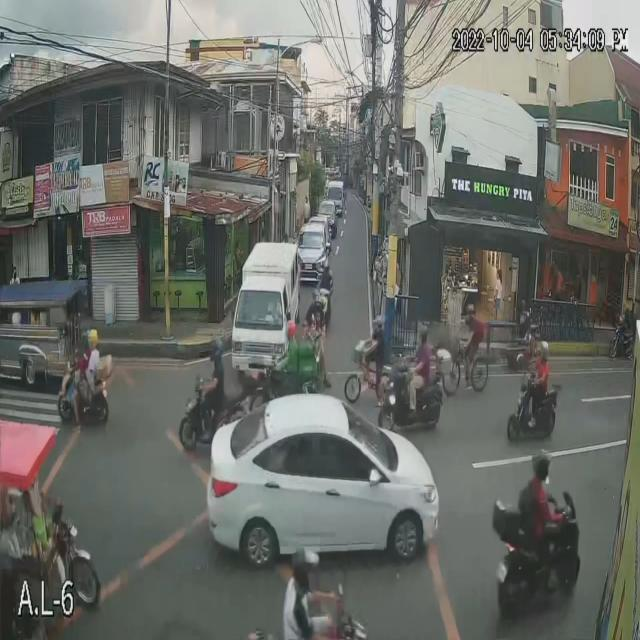Full-Faced: (530, 445, 554, 483), (210, 338, 226, 362), (414, 322, 428, 348), (536, 340, 550, 363), (87, 328, 101, 349), (285, 314, 295, 337)
Half-Faced: (292, 542, 320, 593)
